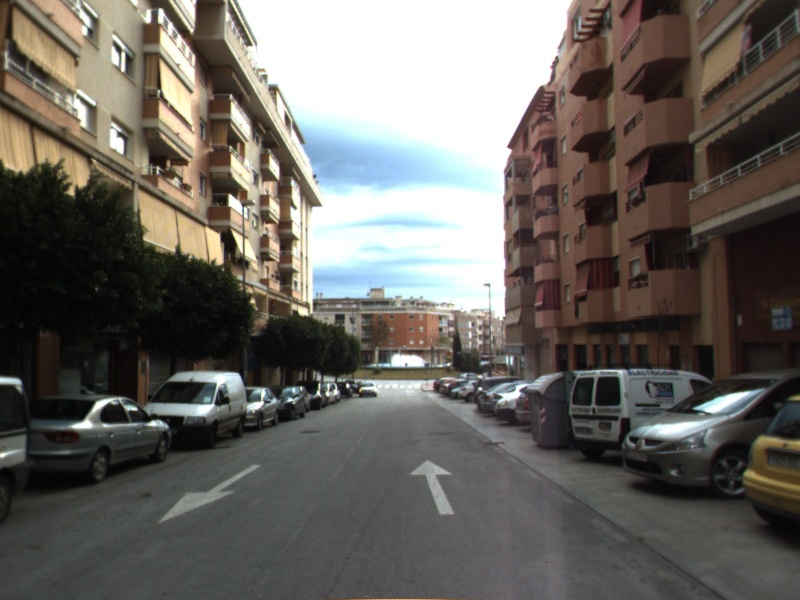STRAIGHT: (407, 458, 457, 516)
